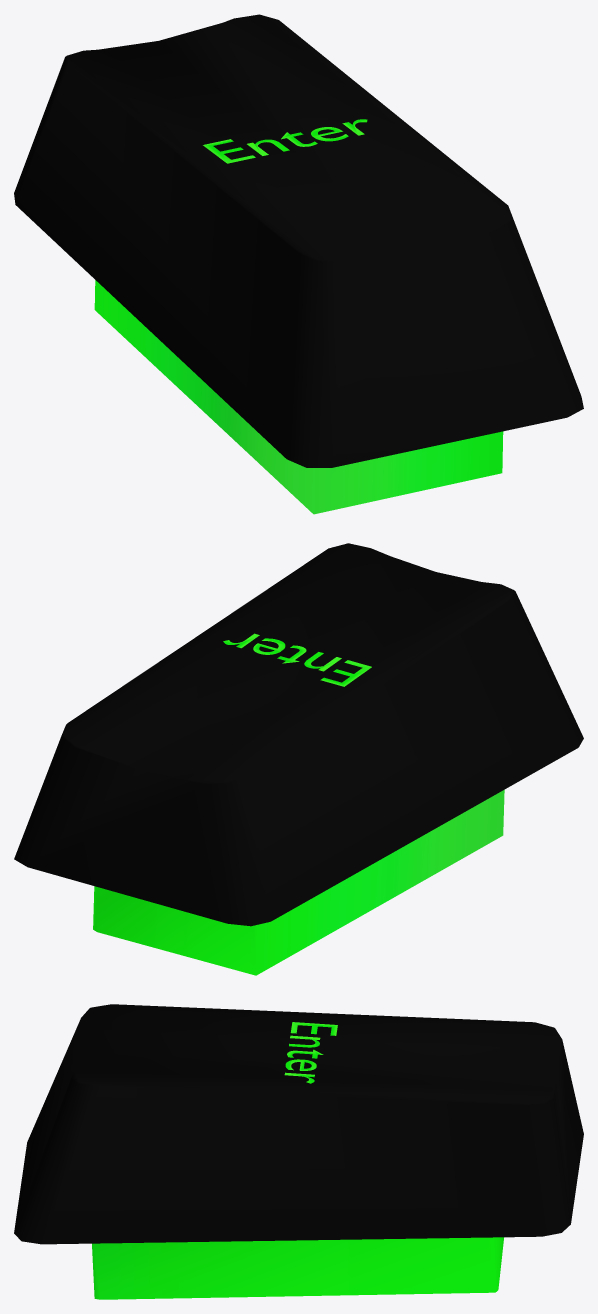
File: key_enter-BzgznmOO.glb
3 renders of one model, top to bottom at view 1: azimuth 30°, elevation 25°; view 2: azimuth 150°, elevation 25°; view 3: azimuth 270°, elevation 25°, orthographic. The views are drawn at different scales.
Visible parts, largest first — view 1: StudyShelf_754; view 2: StudyShelf_754; view 3: StudyShelf_754.
Boxes of the visible parts, <box> form: StudyShelf_754: <box>14,14,583,514</box>; StudyShelf_754: <box>14,543,583,975</box>; StudyShelf_754: <box>14,1004,583,1299</box>.
Bounding box in the file's own units: 4.62 × 3.67 × 8.72.
Materials: 2 (1 with a texture image).
